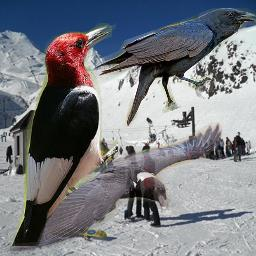Crow: (10, 122, 223, 254), (93, 8, 256, 127)
Woodpecker: (8, 23, 118, 246)
